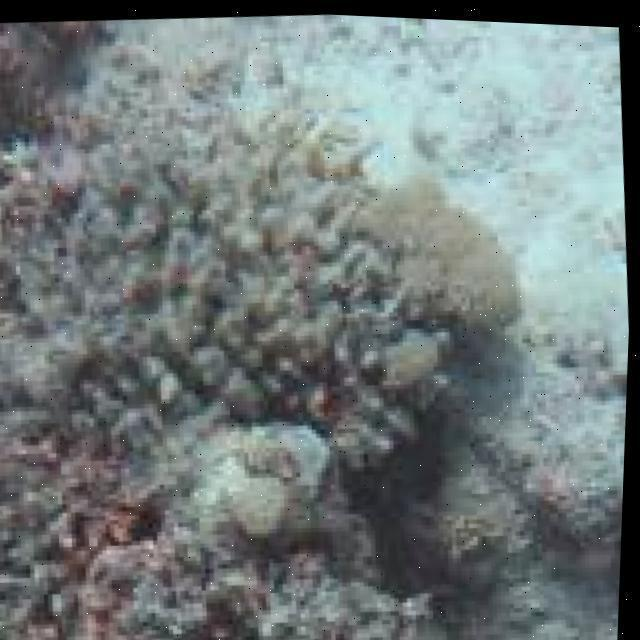Dead Coral: (14, 113, 518, 509)
